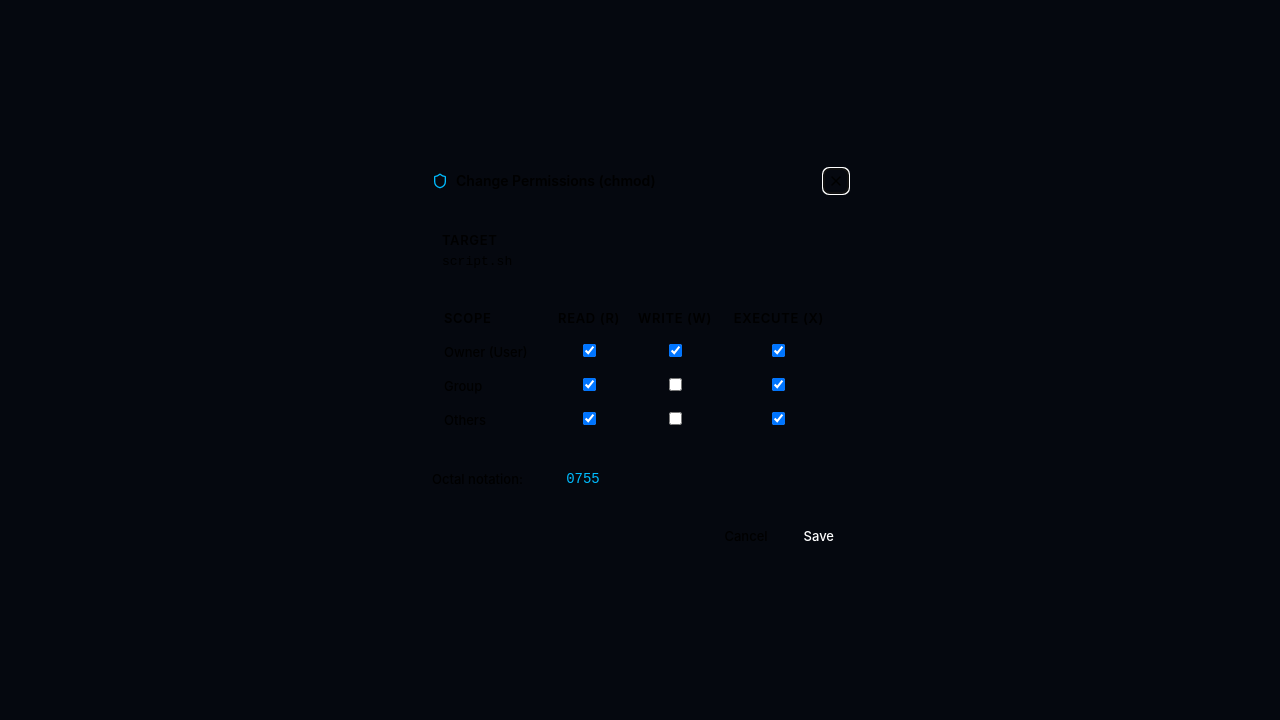
ChmodModal › updates octal input when checkbox is toggled
Uncheck User Write (index 1 in table row 1)
Click the checkbox named "Owner write": (675, 350) [669,344,682,357]
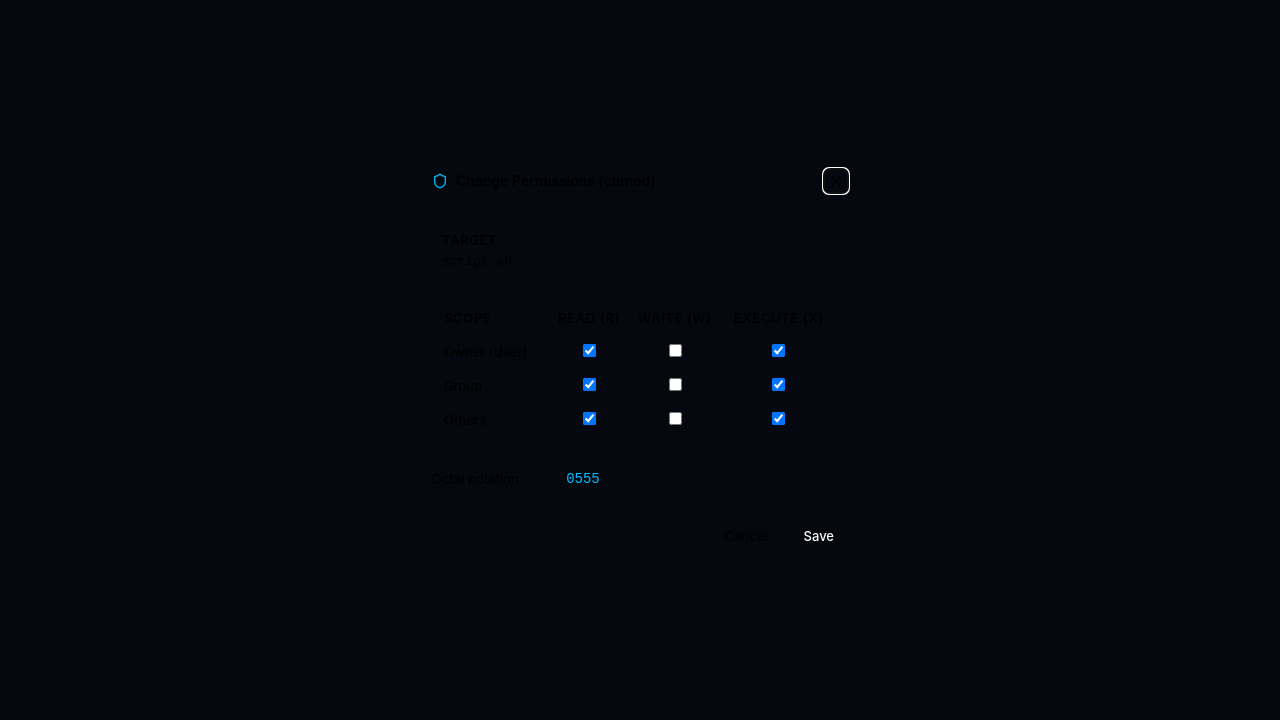
Result: the field showing "0555" is shown at [535,465,631,493]
